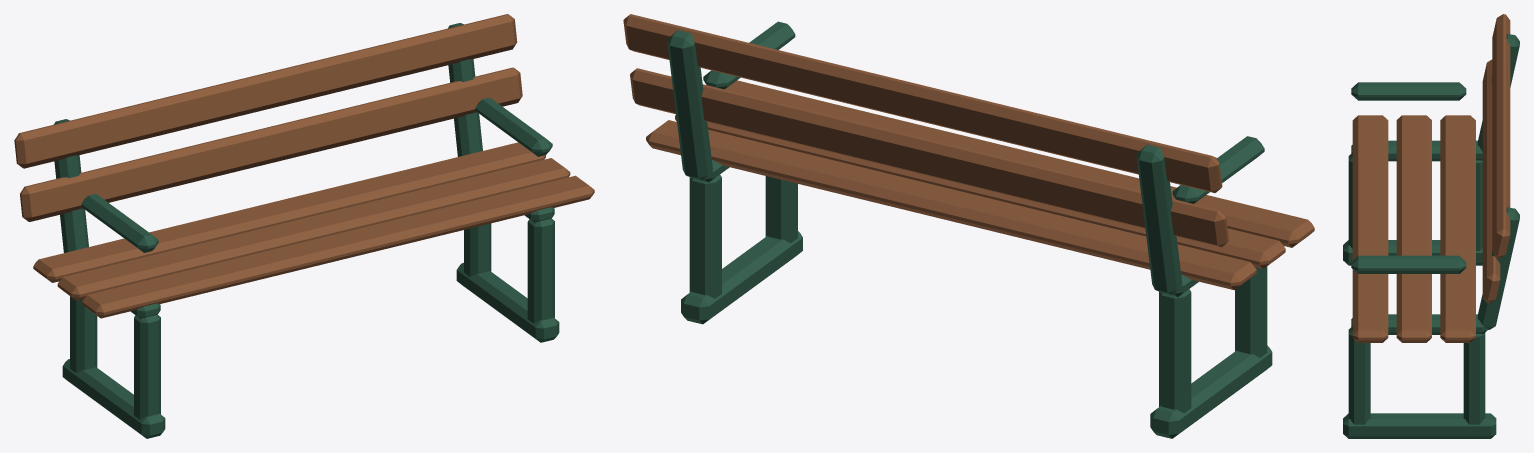
File: bench.glb
3 renders of one model, left to right at view 1: azimuth 30°, elevation 25°; view 2: azimuth 150°, elevation 25°; view 3: azimuth 270°, elevation 25°, orthographic. The views are drawn at different scales.
Parts seen in each view (by area): view 1: bench; view 2: bench; view 3: bench.
Boxes of the visible parts, x1,y1,x2,y2 form: bench: (14,14,594,438); bench: (623,14,1314,438); bench: (1343,14,1519,438).
Size of the model in its own units: 1.9 by 0.9186 by 0.6457.
Materials: 1 (1 with a texture image).
